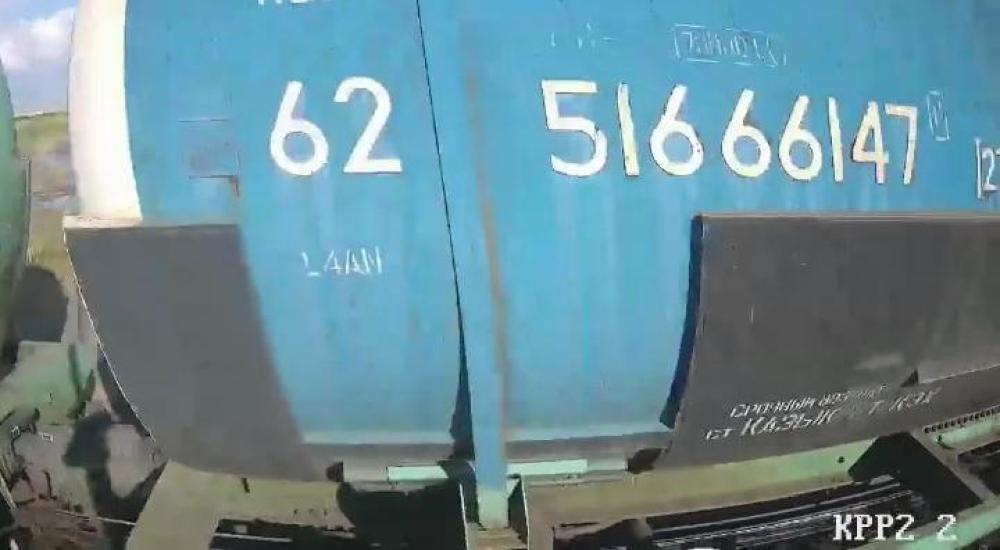Wagon-number: (536, 73, 922, 189)
